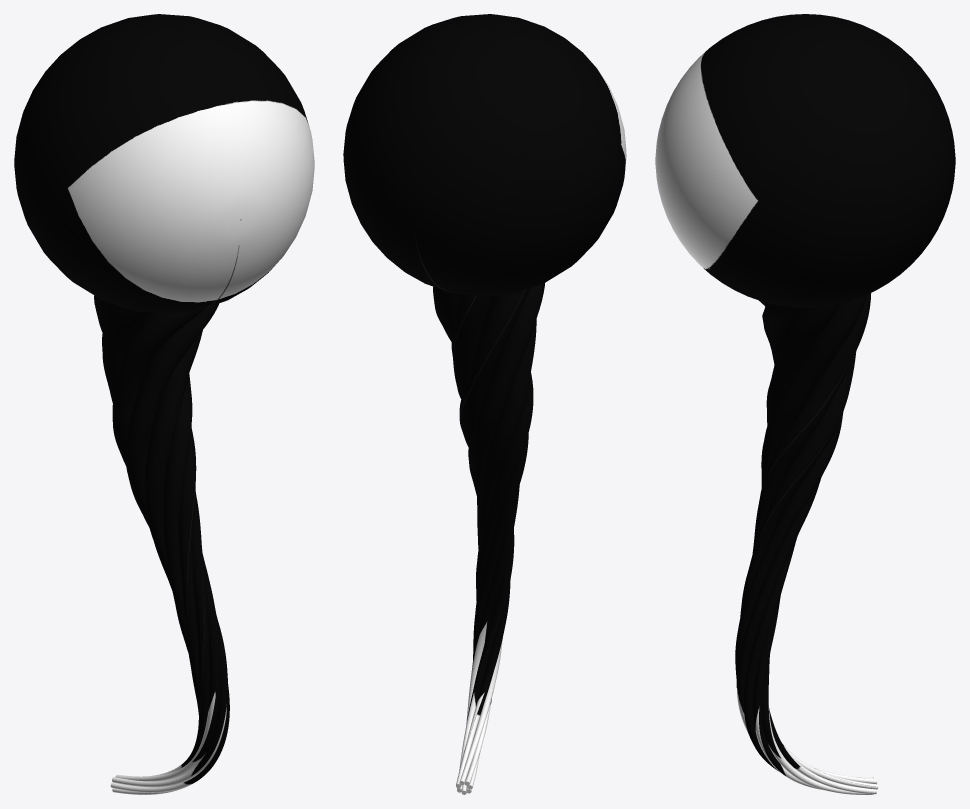
File: Ojo_Pies.fbx
3 views of the same model, side by side, from view 1: azimuth 30°, elevation 25°; view 2: azimuth 150°, elevation 25°; view 3: azimuth 270°, elevation 25° (orthographic). The views are drawn at different scales.
Parts seen in each view (by area): view 1: Ojo, Venas; view 2: Ojo, Venas; view 3: Ojo, Venas.
Boxes of the visible parts, box(x1,y1,x2,y2) form: Ojo: box(14, 14, 314, 313); Venas: box(94, 295, 229, 794); Ojo: box(343, 14, 626, 295); Venas: box(433, 283, 544, 794); Ojo: box(655, 14, 955, 307); Venas: box(735, 293, 878, 794).
Size of the model in its own units: 195 by 566 by 200.
